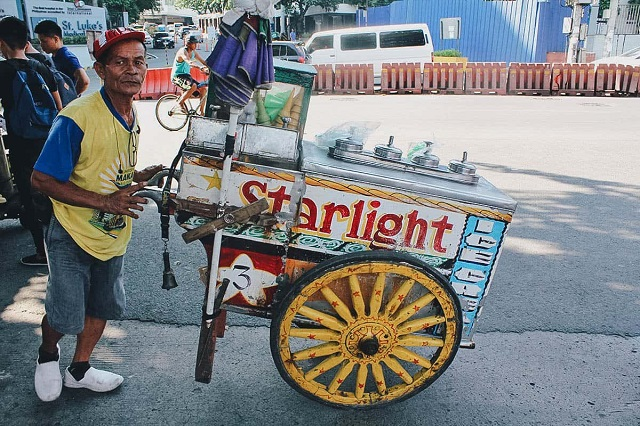car: (307, 23, 433, 69)
cart: (158, 56, 517, 407)
person: (32, 28, 150, 403), (3, 16, 54, 267), (172, 35, 209, 112)
